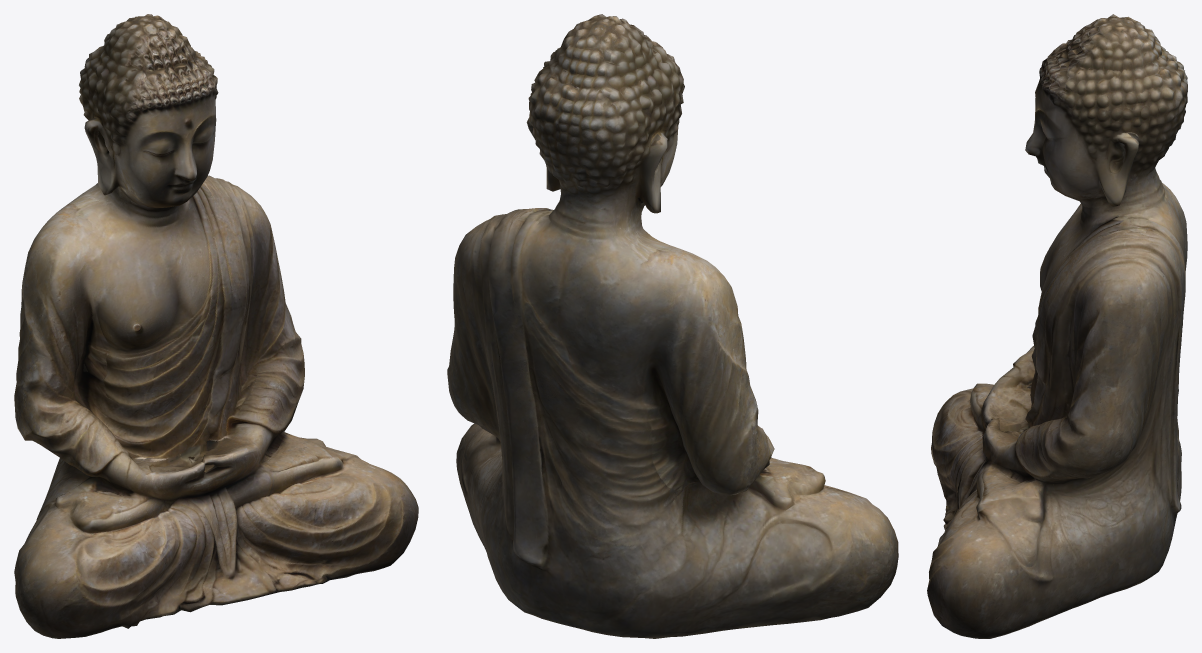
File: buddha.glb
3 views of the same model, side by side, from view 1: azimuth 30°, elevation 25°; view 2: azimuth 150°, elevation 25°; view 3: azimuth 270°, elevation 25° (orthographic). The views are drawn at different scales.
Bounding box in the file's own units: 1.53 × 2 × 0.8853.
Materials: 1 (1 with a texture image).
